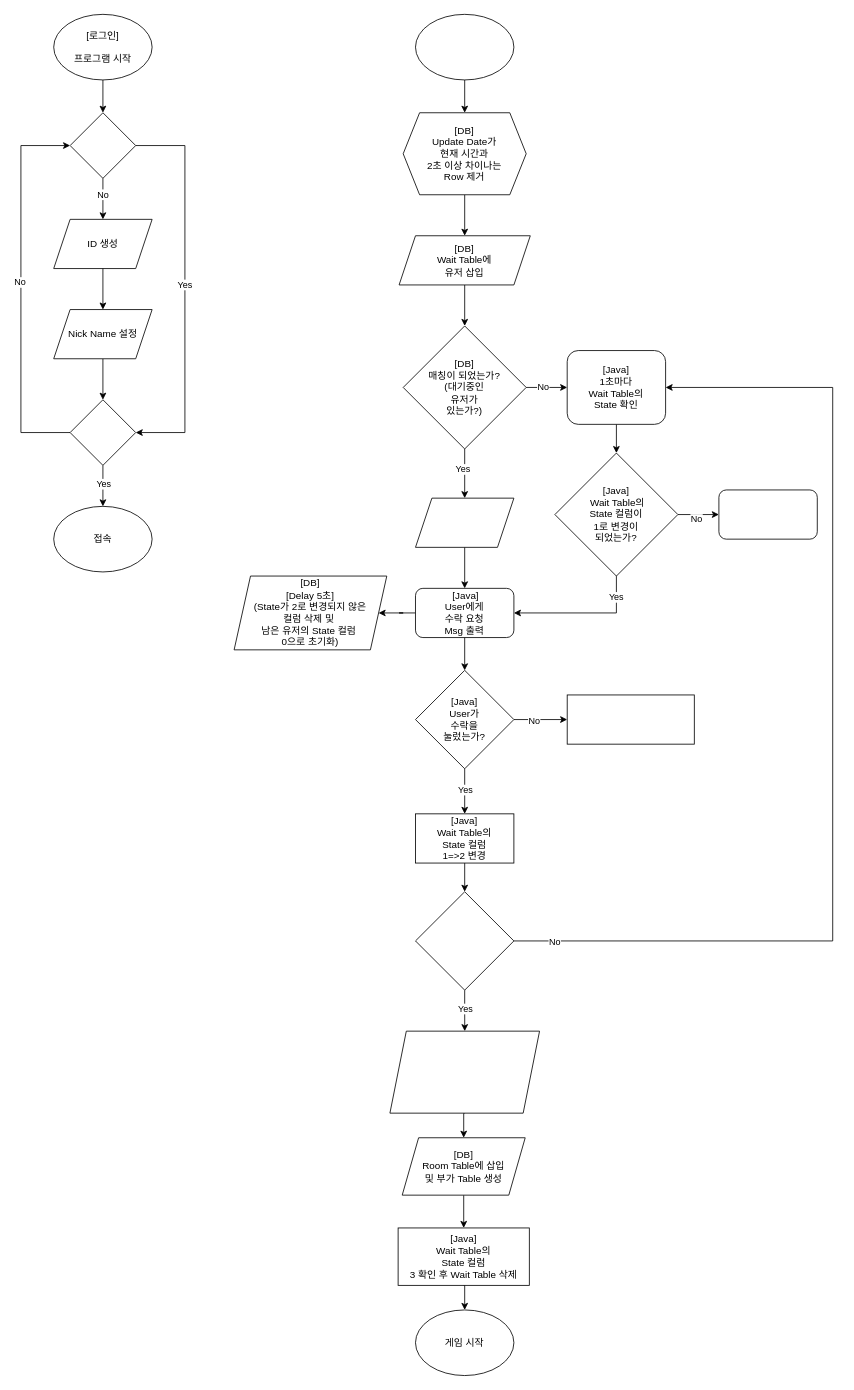
The diagram is 854 pixels wide and 1390 high, and some of its shapes have lost their labels. Here are the shapes that lost their labels. From the top down, the box of each, then its label:
(415, 14, 514, 80): [매칭] [Java] 매칭 시작
(69, 112, 136, 178): ID 유무
(69, 399, 136, 465): Login
(415, 497, 514, 547): [DB ] Wait Table의 State 컬럼 0 => 1 변경
(718, 489, 817, 539): [Java] Update Date 갱신
(566, 694, 694, 744): [Java] Wait Table에서 제거
(415, 891, 514, 990): [DB] 매칭에 성공했는가?
(389, 1030, 540, 1113): [DB] Wait Table의 State 컬럼 2=>3 변경
